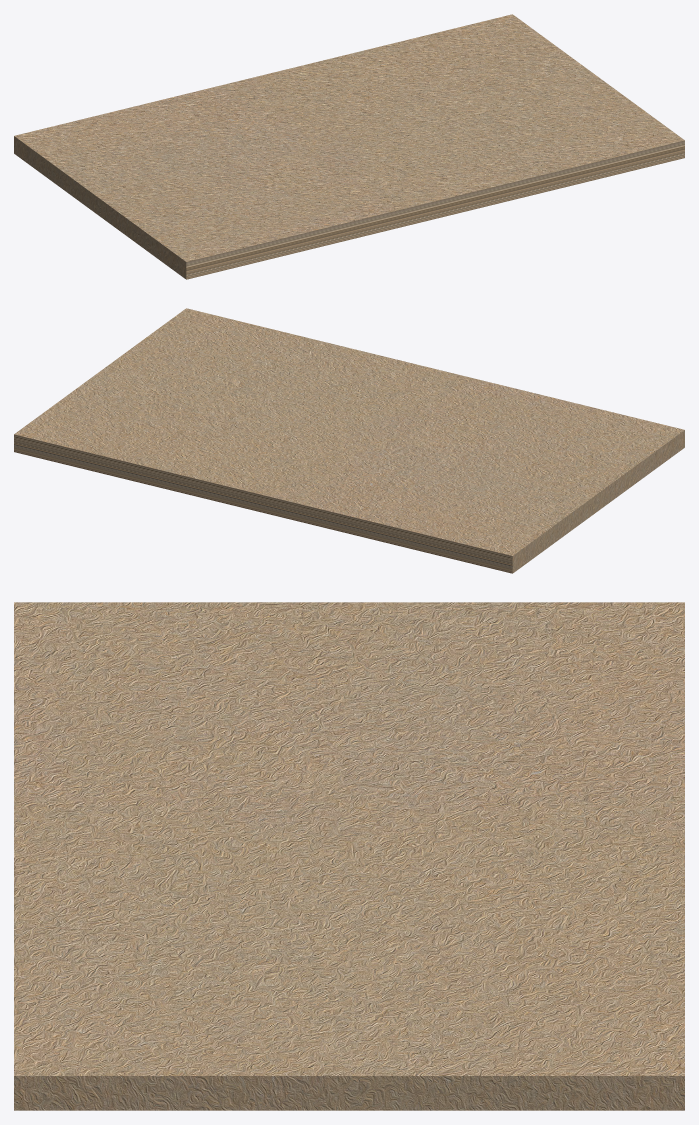
The model's file is ground.FBX.
3 renders of one model, top to bottom at view 1: azimuth 30°, elevation 25°; view 2: azimuth 150°, elevation 25°; view 3: azimuth 270°, elevation 25°, orthographic. The views are drawn at different scales.
Parts seen in each view (by area): view 1: ground; view 2: ground; view 3: ground.
Part boxes in pixels (x1,y1,x2,y2): ground: (14,14,684,279); ground: (14,308,684,573); ground: (14,602,684,1110).
Size of the model in its own units: 944 by 32.07 by 565.
Materials: 1 (1 with a texture image).
